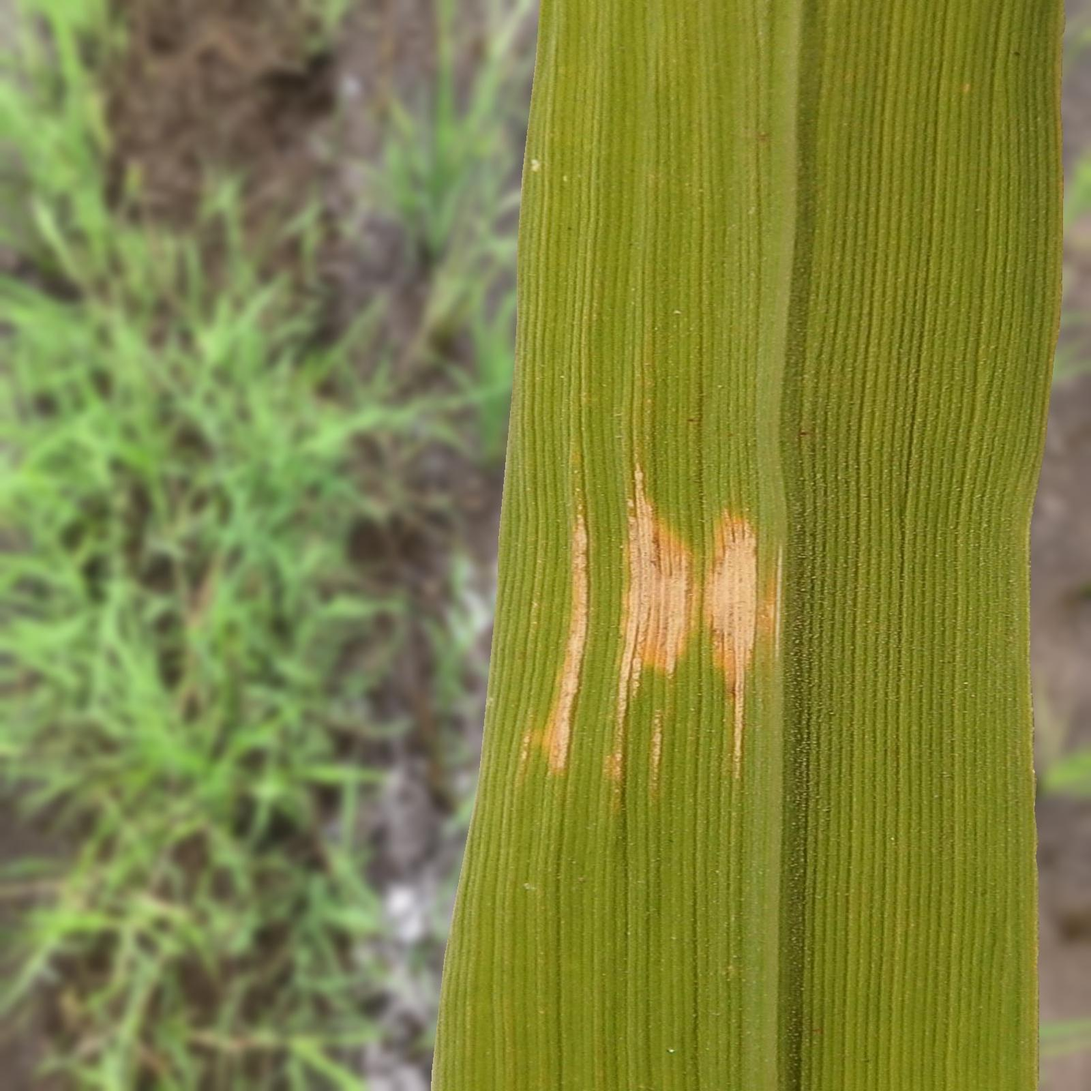BLS: (608, 464, 694, 775), (706, 515, 782, 777), (705, 512, 760, 778), (541, 498, 588, 773), (650, 711, 661, 794)
LEAF: (431, 0, 1065, 1090)
